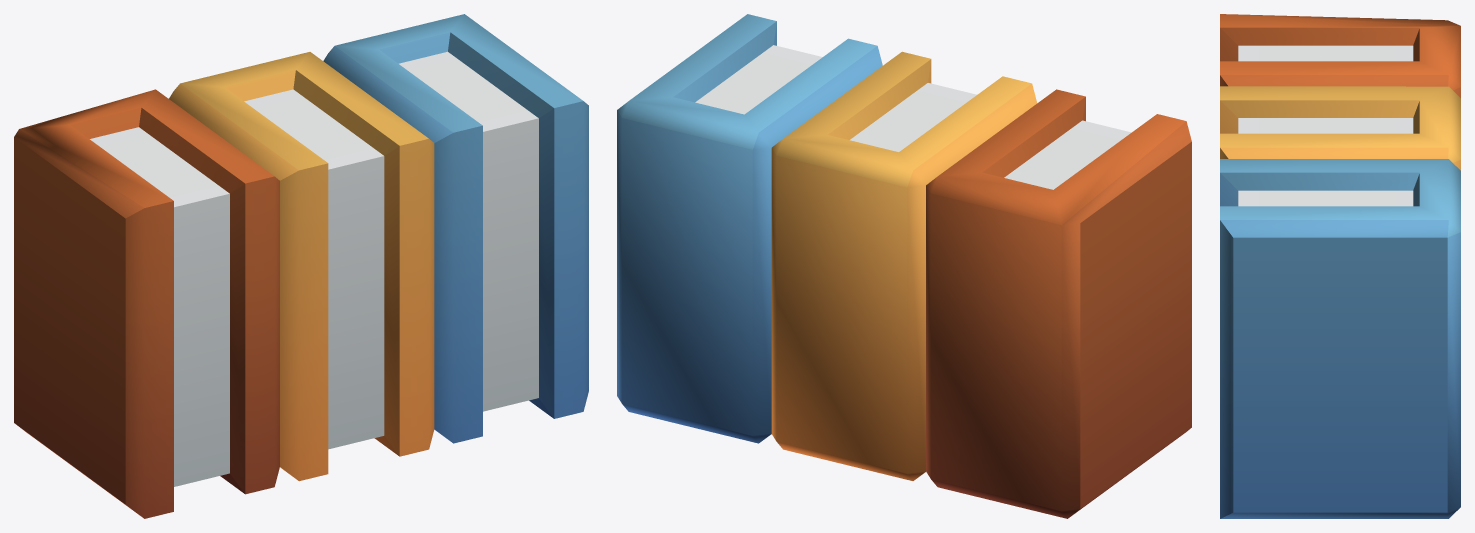
The model's file is cc0-book-set-lod1.glb.
3 views of the same model, side by side, from view 1: azimuth 30°, elevation 25°; view 2: azimuth 150°, elevation 25°; view 3: azimuth 270°, elevation 25° (orthographic). The views are drawn at different scales.
Parts seen in each view (by area): view 1: part_0; view 2: part_0; view 3: part_0.
Part boxes in pixels (left/top/right/bottom): part_0: left=14, top=14, right=588, bottom=518; part_0: left=617, top=14, right=1191, bottom=518; part_0: left=1220, top=14, right=1460, bottom=518.
Bounding box in the file's own units: 0.78 × 0.5 × 0.365.
1 material, 1 textured.
